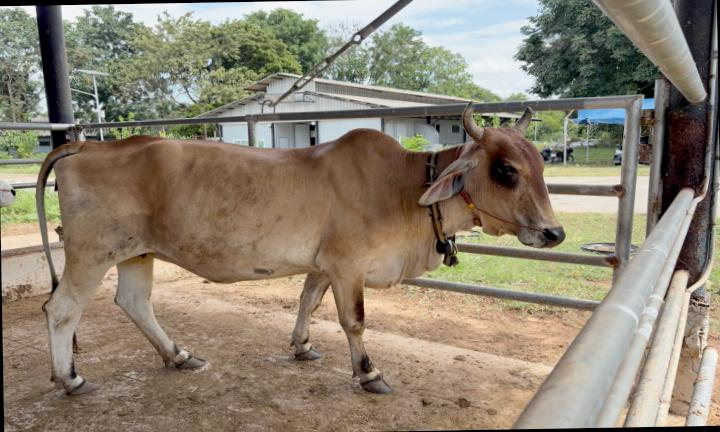Brahman: (36, 101, 565, 395)
